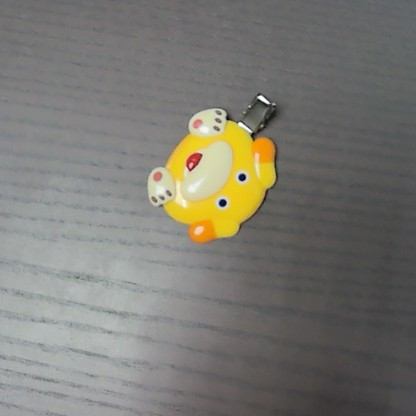dogclip: (145, 87, 278, 242)
